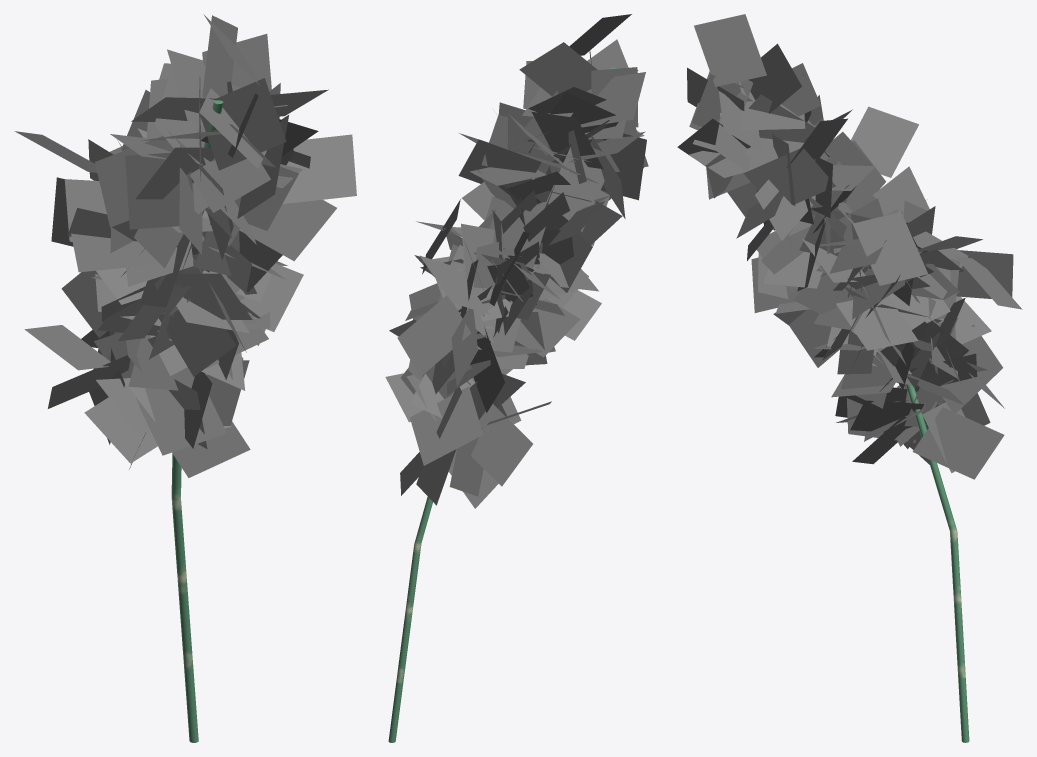
The model's file is 竹low.fbx.
3 renders of one model, left to right at view 1: azimuth 30°, elevation 25°; view 2: azimuth 150°, elevation 25°; view 3: azimuth 270°, elevation 25°, orthographic. The views are drawn at different scales.
Visible parts, largest first — view 1: tyFlow_node_076; view 2: tyFlow_node_076; view 3: tyFlow_node_076.
Part boxes in pixels (x1,y1,x2,y2): tyFlow_node_076: (14,14,356,742); tyFlow_node_076: (385,14,648,742); tyFlow_node_076: (677,14,1022,742).
Bounding box in the file's own units: 45.6 × 150 × 69.39.
